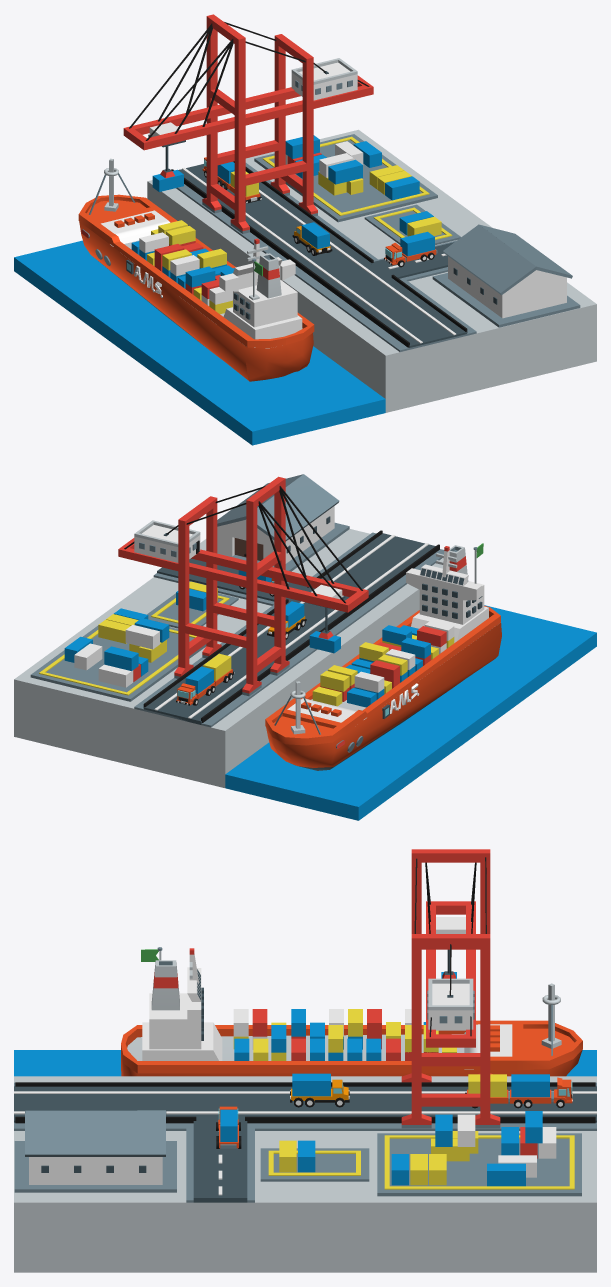
The model's file is porto.fbx.
3 renders of one model, top to bottom at view 1: azimuth 30°, elevation 25°; view 2: azimuth 150°, elevation 25°; view 3: azimuth 270°, elevation 25°, orthographic. The views are drawn at different scales.
Parts seen in each view (by area): view 1: mesh_190893547, group_1196106066, mesh_147904597, mesh_1126082673, group_1692546767, mesh_658744810, mesh_30039753, mesh_741089094, mesh_1237844620, mesh_1441821170, mesh_8403489, mesh_753703270 (+19 smaller); view 2: mesh_190893547, group_1196106066, mesh_147904597, mesh_1126082673, group_1692546767, mesh_30039753, mesh_741089094, mesh_716664346, mesh_1441821170, mesh_658744810, mesh_1010171320, group_1355834799 (+20 smaller); view 3: mesh_190893547, group_1196106066, mesh_1126082673, mesh_30039753, mesh_369223564, mesh_1545566040, mesh_147904597, group_1692546767, group_1355834799, mesh_912731662, mesh_753703270, mesh_2055348084 (+29 smaller).
Part boxes in pixels (x1,y1,x2,y2): mesh_190893547: [147, 129, 596, 412]; group_1196106066: [78, 158, 314, 381]; mesh_147904597: [14, 240, 385, 445]; mesh_1126082673: [178, 162, 466, 347]; group_1692546767: [230, 35, 317, 233]; mesh_658744810: [443, 224, 536, 295]; mesh_30039753: [254, 134, 437, 222]; mesh_741089094: [176, 163, 476, 351]; mesh_1237844620: [140, 84, 373, 150]; mesh_1441821170: [202, 14, 221, 210]; mesh_8403489: [291, 58, 357, 100]; mesh_753703270: [432, 273, 580, 327]; mesh_190893547: [14, 529, 443, 787]; group_1196106066: [265, 543, 501, 770]; mesh_147904597: [225, 605, 596, 820]; mesh_1126082673: [144, 533, 435, 724]; group_1692546767: [202, 476, 289, 675]; mesh_30039753: [30, 625, 206, 701]; mesh_741089094: [134, 532, 444, 727]; mesh_716664346: [118, 546, 352, 612]; mesh_1441821170: [242, 497, 261, 693]; mesh_658744810: [257, 474, 339, 541]; mesh_1010171320: [174, 517, 193, 676]; group_1355834799: [176, 653, 234, 705]; mesh_190893547: [14, 1076, 596, 1272]; group_1196106066: [121, 947, 582, 1076]; mesh_1126082673: [14, 1086, 596, 1122]; mesh_30039753: [377, 1133, 581, 1196]; mesh_369223564: [25, 1110, 165, 1156]; mesh_1545566040: [193, 1119, 247, 1202]; mesh_147904597: [14, 1050, 596, 1076]; group_1692546767: [401, 849, 431, 1128]; group_1355834799: [465, 1074, 572, 1108]; mesh_912731662: [37, 1161, 153, 1184]; mesh_753703270: [14, 1141, 176, 1192]; mesh_2055348084: [260, 1148, 369, 1181].
Bounding box in the file's own units: 390 × 271 × 467.
